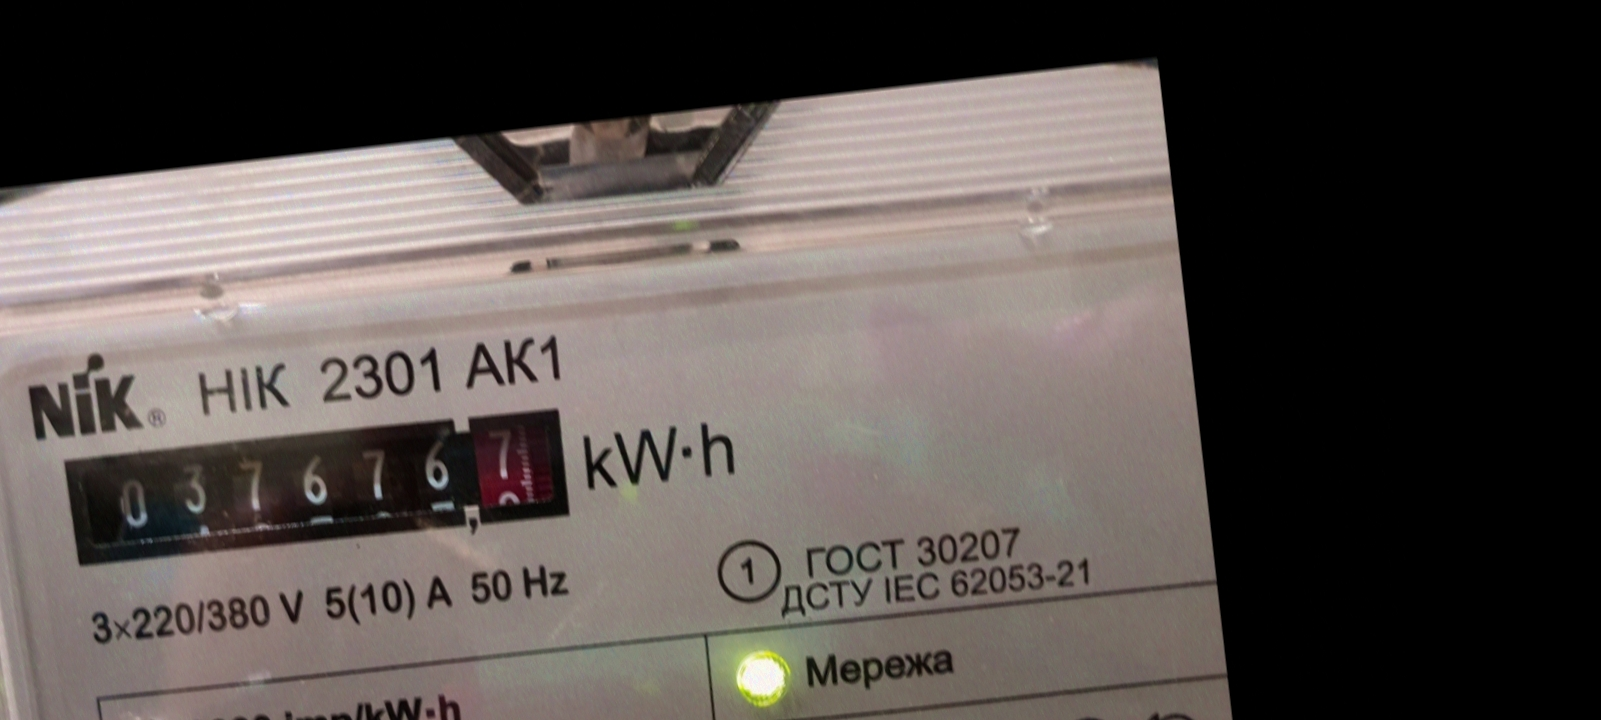0: (114, 473, 153, 531)
3: (175, 458, 209, 517)
6: (294, 449, 332, 507), (417, 435, 453, 493)
7: (356, 444, 393, 505), (233, 455, 270, 514), (484, 424, 518, 483)
screen: (46, 386, 587, 590)
